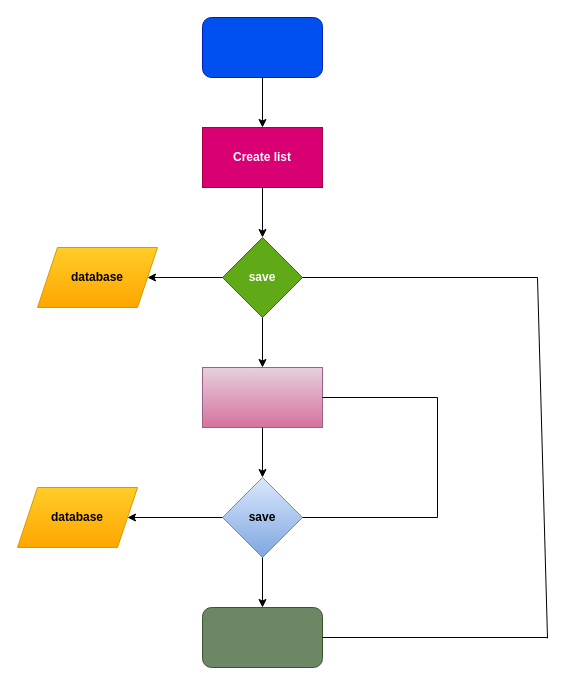
Image size: 566x685. Some labels were removed from this diagram. Each missing label, with the centre of its shape:
create task: (262,397)
end: (262,637)
Start: (262,47)
